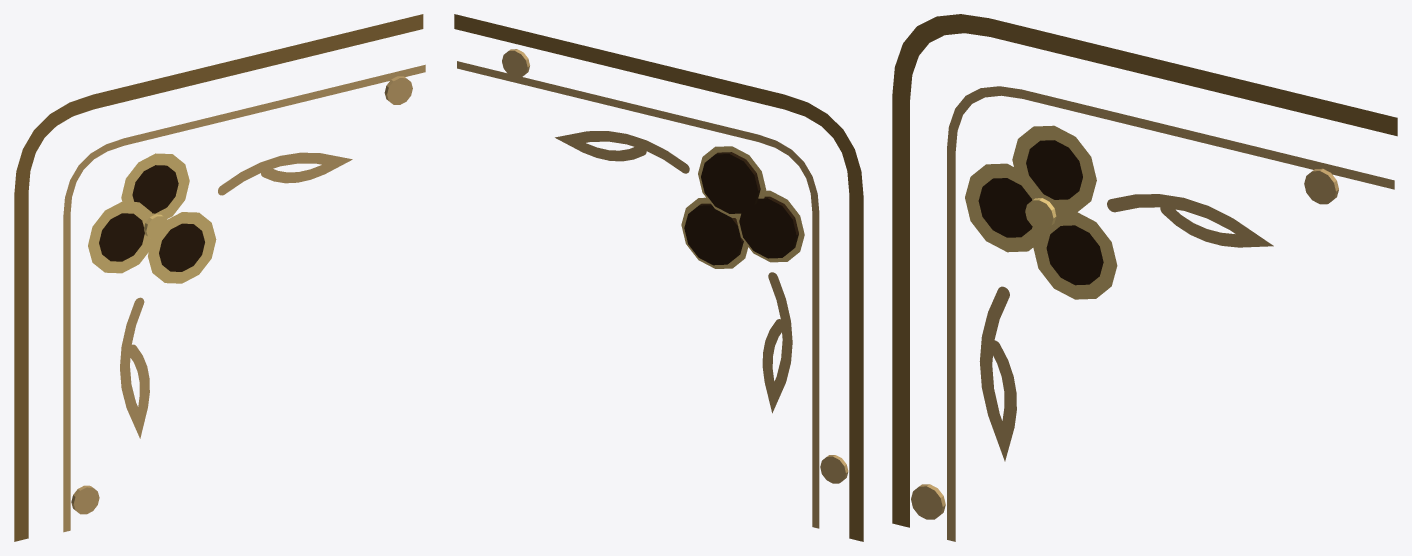
The model's file is ui-frame-corner.glb.
The picture shows the model from 3 angles, left to right: view 1: azimuth 30°, elevation 25°; view 2: azimuth 150°, elevation 25°; view 3: azimuth 330°, elevation 25°; orthographic projection. The views are drawn at different scales.
Parts seen in each view (by area): view 1: ui-frame-corner; view 2: ui-frame-corner; view 3: ui-frame-corner.
Boxes of the visible parts, left/top/right/bottom form: ui-frame-corner: left=14, top=14, right=425, bottom=541; ui-frame-corner: left=454, top=14, right=863, bottom=541; ui-frame-corner: left=892, top=14, right=1397, bottom=541.
Size of the model in its own units: 0.2672 by 0.2672 by 0.0252.
